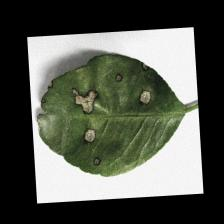canker: (41, 52, 152, 162)
